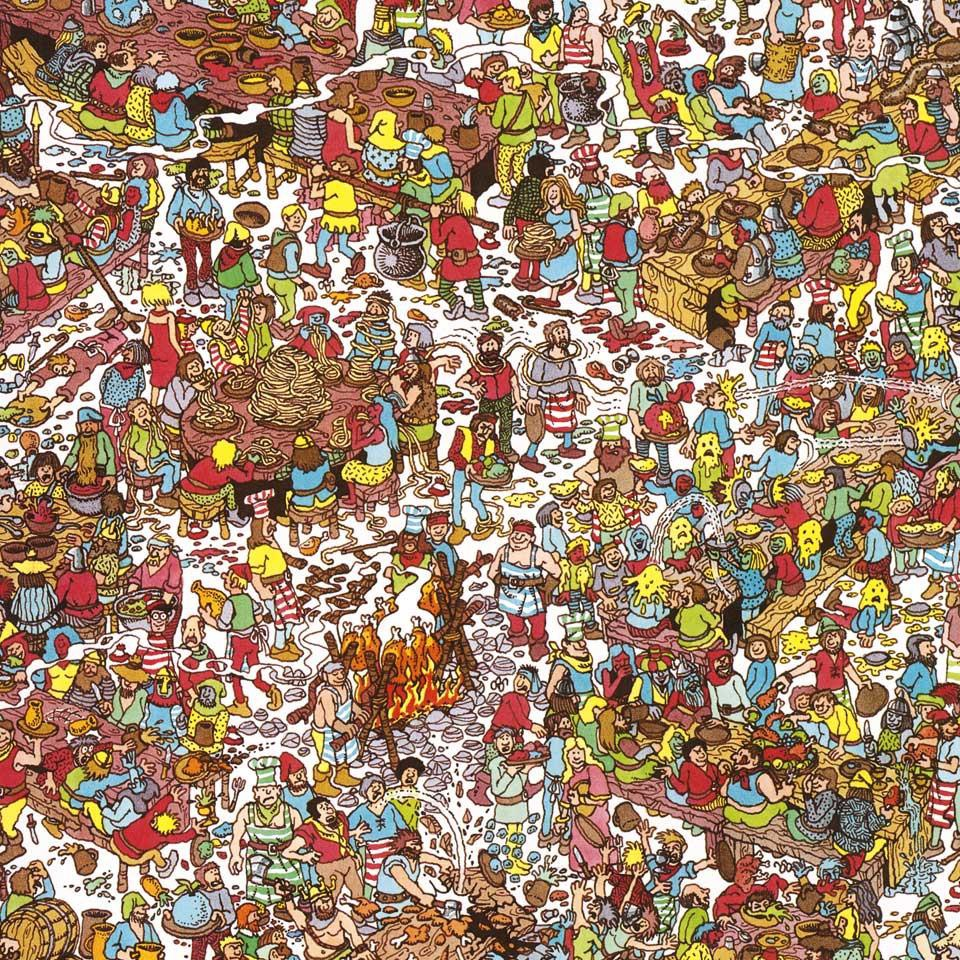waldo: (139, 594, 175, 672)
